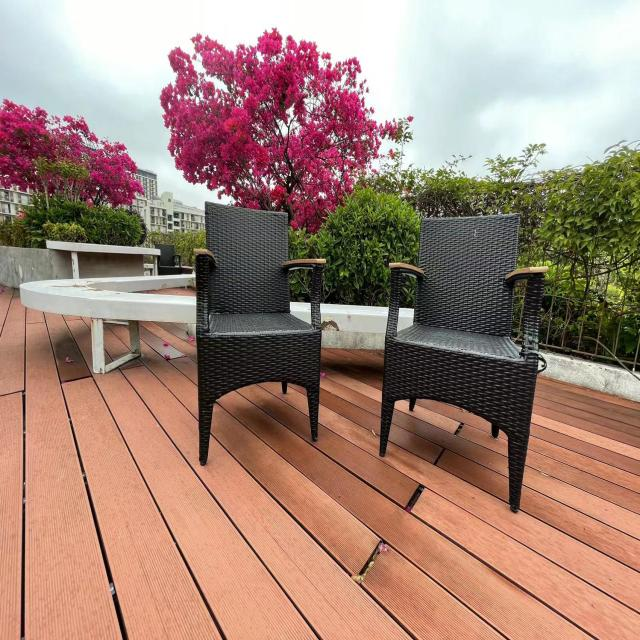chair: (375, 199, 549, 516), (191, 184, 326, 453)
